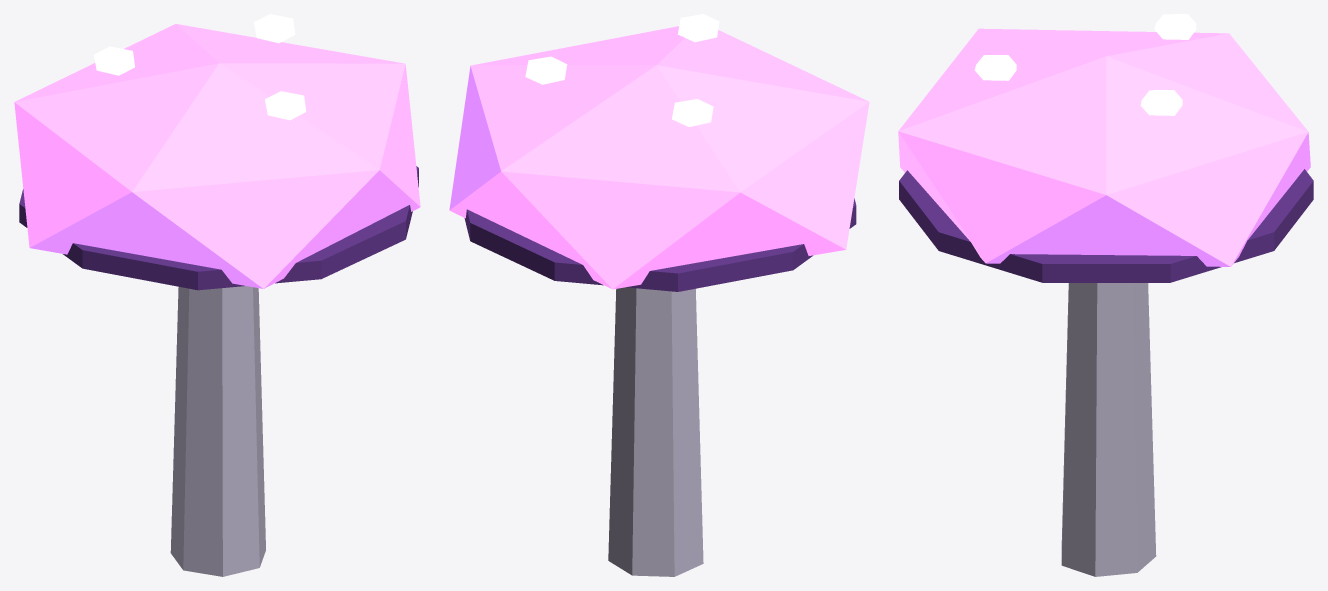
File: glow_mushroom.glb
3 renders of one model, left to right at view 1: azimuth 30°, elevation 25°; view 2: azimuth 150°, elevation 25°; view 3: azimuth 270°, elevation 25°, orthographic.
Parts seen in each view (by area): view 1: glow_mushroom; view 2: glow_mushroom; view 3: glow_mushroom.
Part boxes in pixels (x1,y1,x2,y2): glow_mushroom: [14, 14, 420, 576]; glow_mushroom: [449, 14, 869, 576]; glow_mushroom: [898, 14, 1313, 576].
Size of the model in its own units: 3.19 by 4.05 by 3.01.
